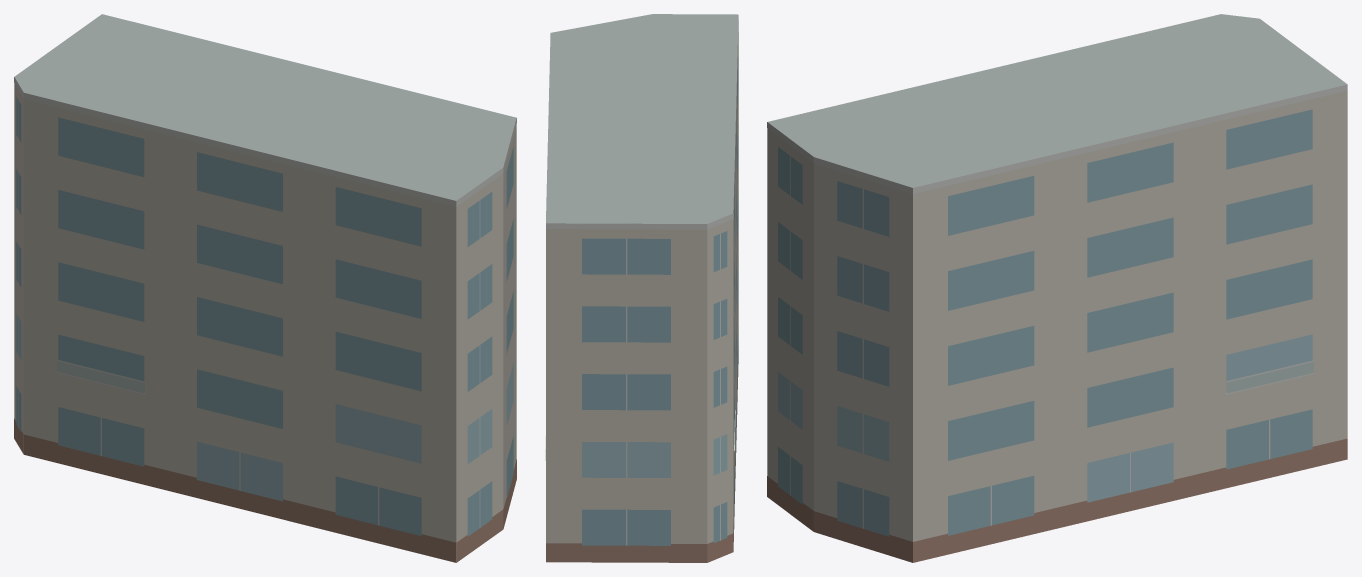
The model's file is survey-upis-32627044.glb.
The picture shows the model from 3 angles, left to right: view 1: azimuth 30°, elevation 25°; view 2: azimuth 150°, elevation 25°; view 3: azimuth 270°, elevation 25°; orthographic projection. The views are drawn at different scales.
Visible parts, largest first — view 1: survey-upis-32627044.tmp; view 2: survey-upis-32627044.tmp; view 3: survey-upis-32627044.tmp.
Boxes of the visible parts, left/top/right/bottom form: survey-upis-32627044.tmp: left=14, top=14, right=516, bottom=562; survey-upis-32627044.tmp: left=545, top=14, right=738, bottom=562; survey-upis-32627044.tmp: left=767, top=14, right=1347, bottom=562.
Size of the model in its own units: 14.64 by 14.7 by 20.63.
